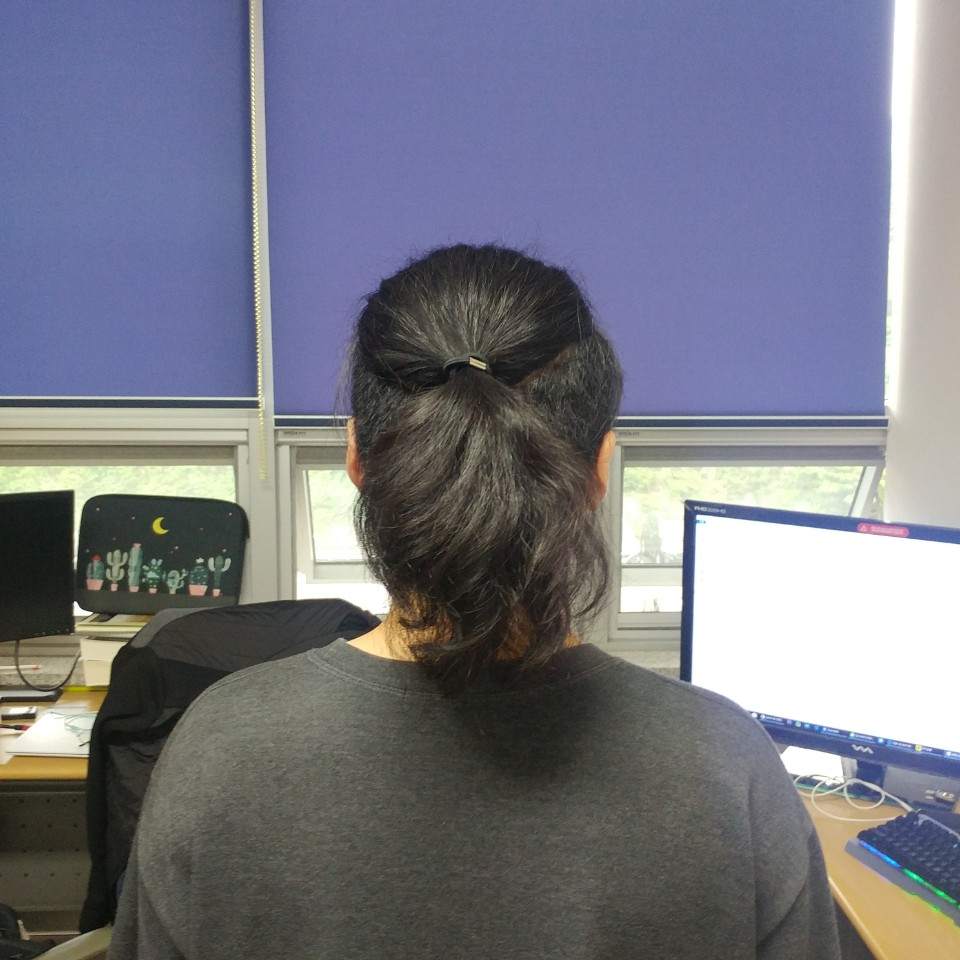CWB: (345, 265, 623, 634), (364, 285, 579, 628)
